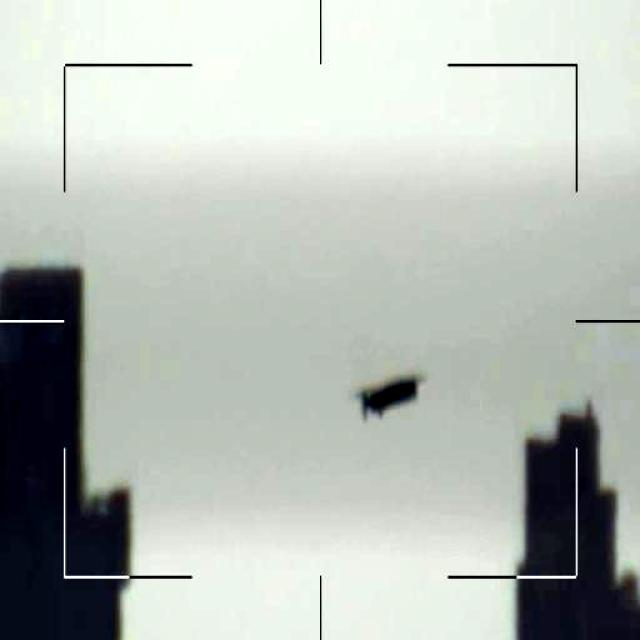bird: (356, 371, 422, 424)
